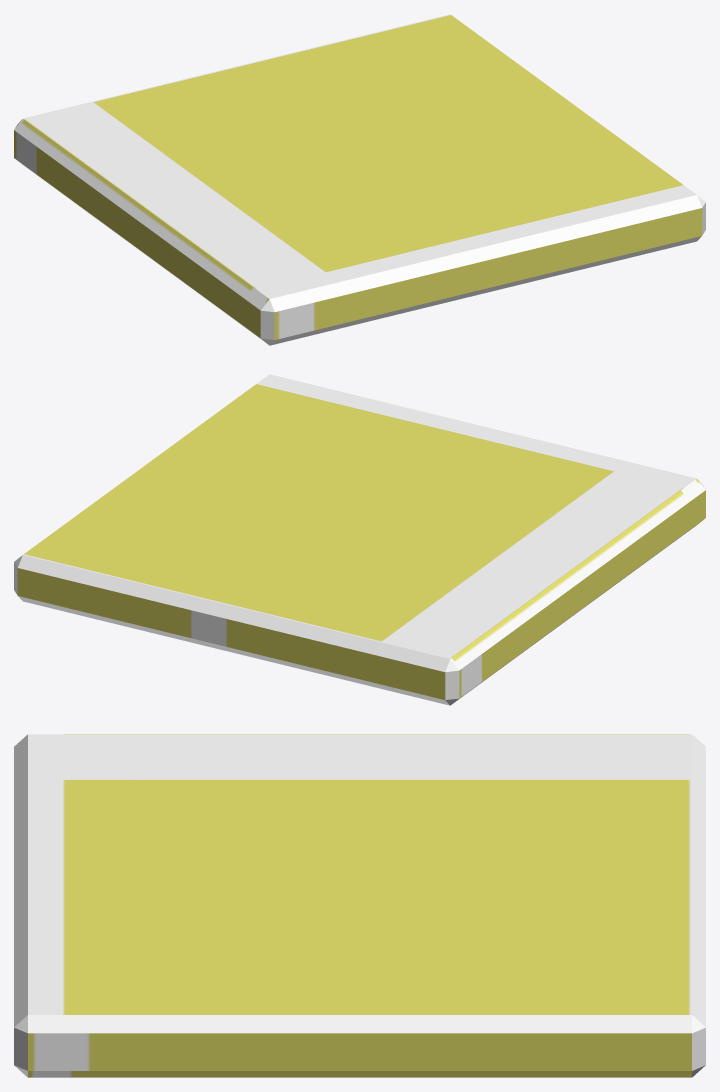
Rendered from FloorR1.glb.
3 views of the same model, one above another, from view 1: azimuth 30°, elevation 25°; view 2: azimuth 150°, elevation 25°; view 3: azimuth 270°, elevation 25° (orthographic). The views are drawn at different scales.
Parts seen in each view (by area): view 1: Floor; view 2: Floor; view 3: Floor.
Boxes of the visible parts, box(x1,y1,x2,y2) form: Floor: box(14, 14, 705, 345); Floor: box(14, 374, 705, 705); Floor: box(14, 734, 705, 1077).
Size of the model in its own units: 2 by 0.2 by 2.
1 material, 1 textured.
